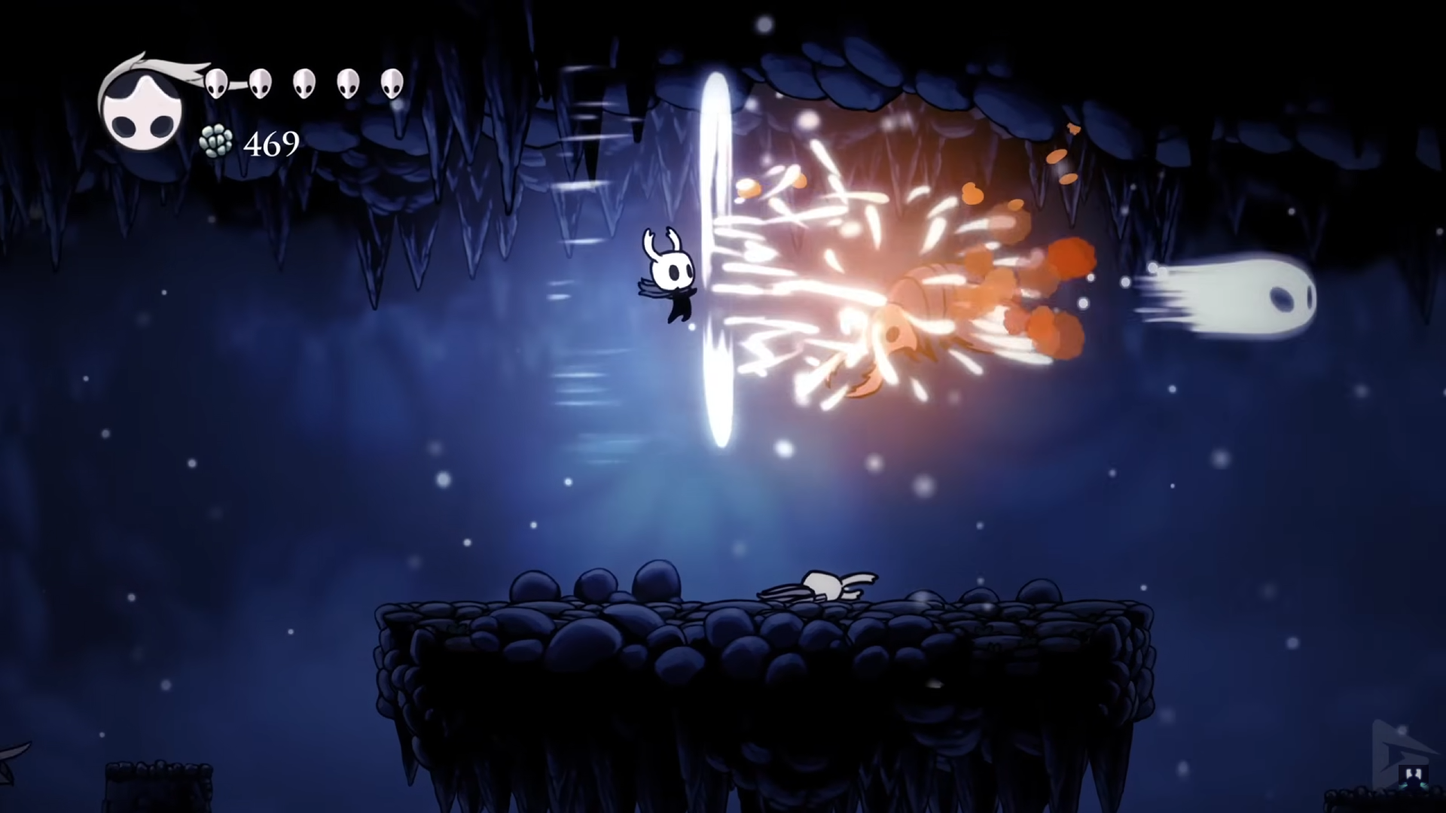HK: (639, 220, 708, 327)
